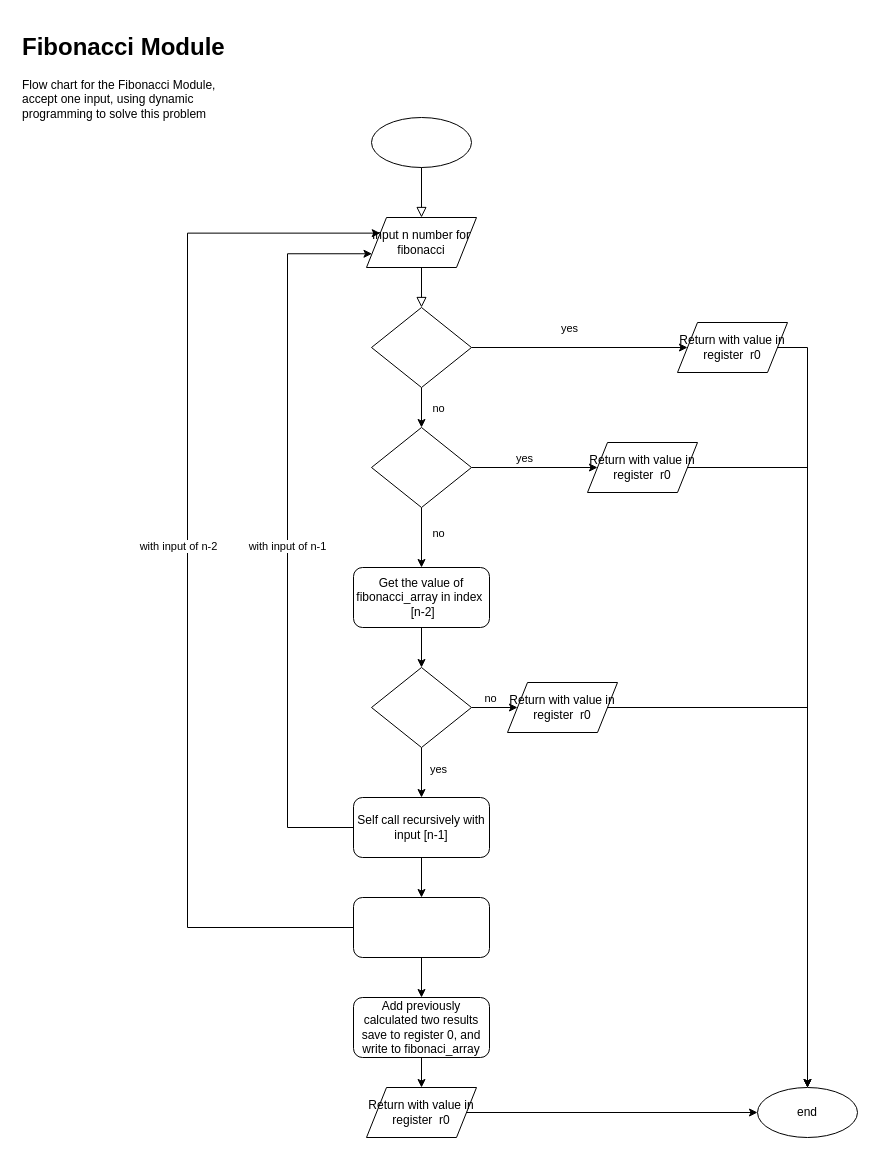
This 875x1155 diagram has some shape labels left out. Here are the shapes that lost their labels. From the top down, the centre of each, then its label:
(421,142): start
(421,347): if n equals to 0?
(421,467): if n equals to 1?
(421,707): equals to 0?
(421,927): Self call recursively with input [n-2]
